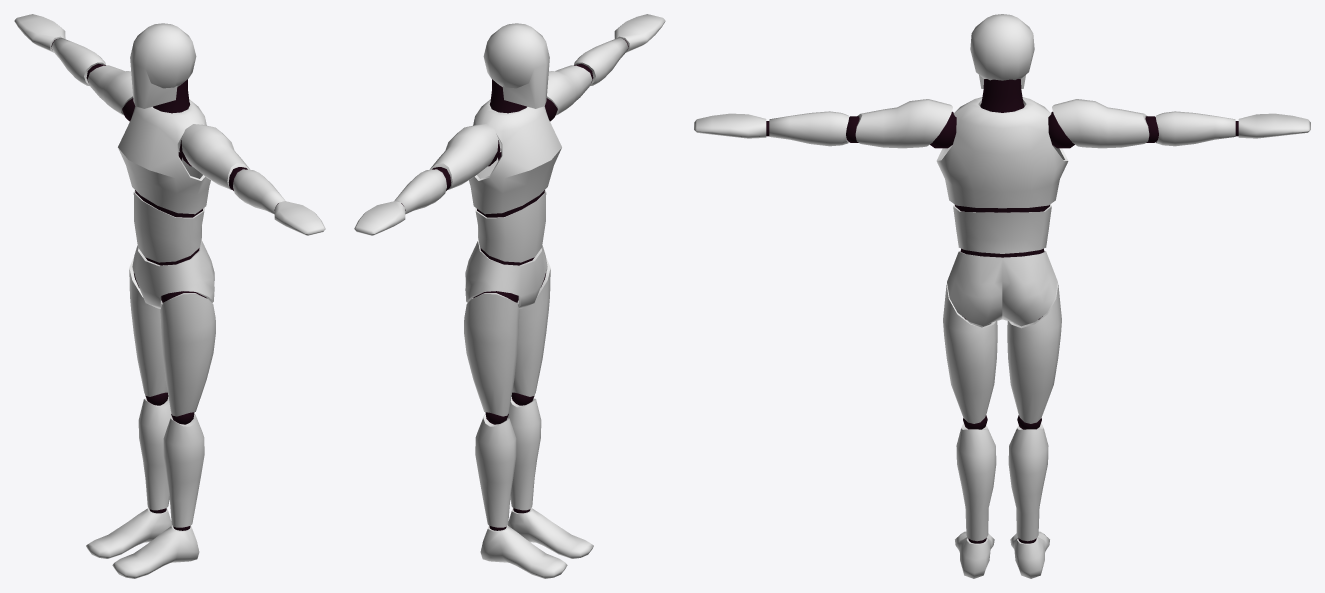
File: Манекен мужской 1.fbx
3 views of the same model, side by side, from view 1: azimuth 30°, elevation 25°; view 2: azimuth 150°, elevation 25°; view 3: azimuth 270°, elevation 25° (orthographic). The views are drawn at different scales.
Parts seen in each view (by area): view 1: Бедро, Торс, Голова, Голеь левая, Живот, Таз, Голень правая, Плечо левое, Стопа левая, Стопа правая, Плечо правое, Предплечье левое (+4 smaller); view 2: Бедро, Торс, Голова, Голень правая, Живот, Таз, Голеь левая, Плечо правое, Стопа правая, Стопа левая, Плечо левое, Предплечье правое (+4 smaller); view 3: Торс, Бедро, Таз, Плечо левое, Плечо правое, Живот, Голова, Голень правая, Голеь левая, Предплечье левое, Предплечье правое, Кисть левая (+4 smaller).
Part boxes in pixels (x1,y1,x2,y2): Бедро: (129,257,215,416); Торс: (118,99,210,214); Голова: (130,23,196,108); Голеь левая: (163,412,204,527); Живот: (133,190,204,262); Таз: (132,240,214,308); Голень правая: (138,392,172,510); Плечо левое: (179,124,249,189); Стопа левая: (112,525,199,578); Стопа правая: (86,508,171,558); Плечо правое: (87,65,135,121); Предплечье левое: (228,167,285,214); Бедро: (464,257,550,416); Торс: (469,99,561,214); Голова: (483,23,549,108); Голень правая: (475,412,516,527); Живот: (475,190,546,262); Таз: (465,240,547,308); Голеь левая: (507,392,541,510); Плечо правое: (430,124,500,189); Стопа правая: (480,525,567,578); Стопа левая: (508,508,593,558); Плечо левое: (544,65,592,121); Предплечье правое: (394,167,451,214); Торс: (936,97,1068,208); Бедро: (943,283,1061,423); Таз: (947,251,1057,326); Плечо левое: (855,99,956,148); Плечо правое: (1048,99,1149,148); Живот: (953,204,1051,253); Голова: (970,14,1034,88); Голень правая: (1008,415,1048,541); Голеь левая: (956,415,996,541); Предплечье левое: (769,111,859,146); Предплечье правое: (1145,111,1235,146); Кисть левая: (694,113,769,138).
Size of the model in its own units: 0.9106 by 4.56 by 4.6.
